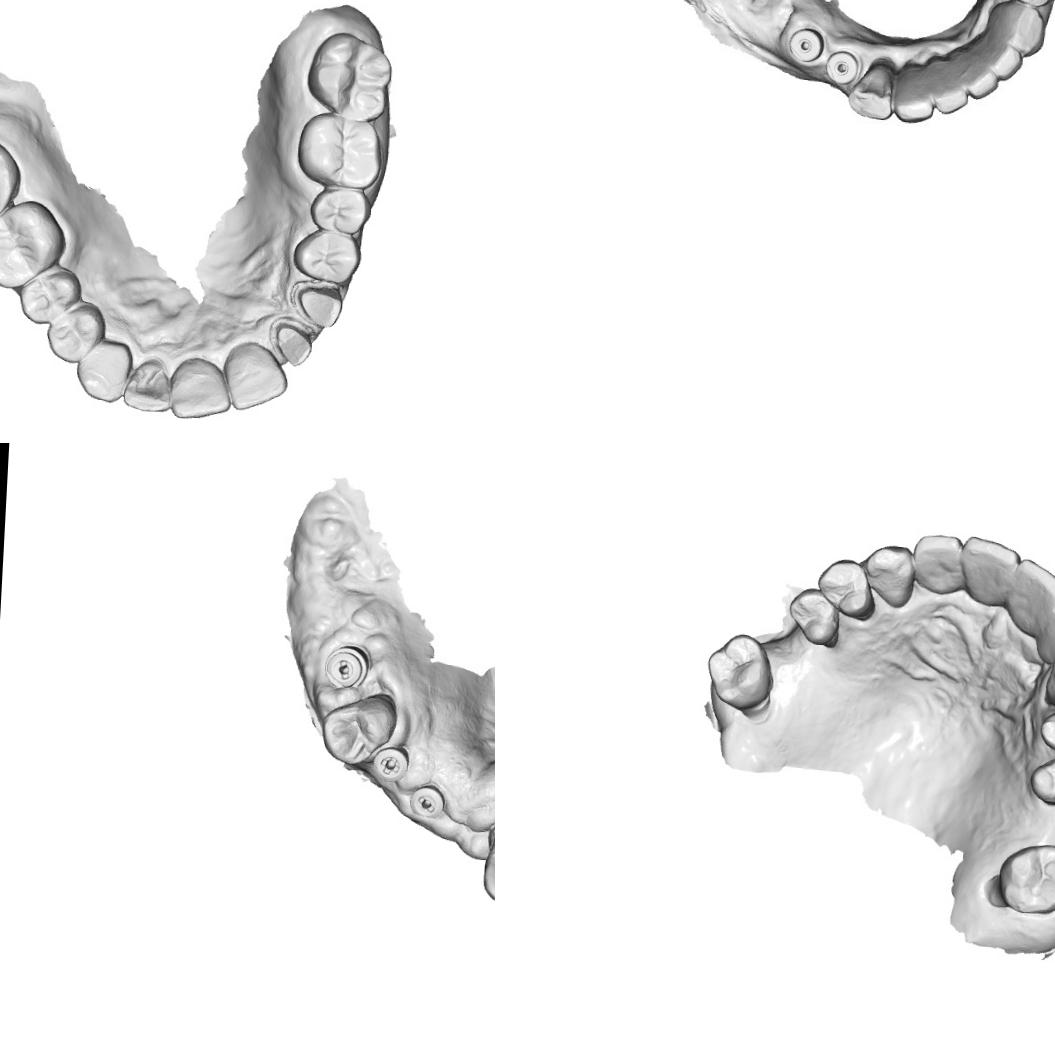canine: (73, 336, 132, 406), (861, 543, 917, 608), (846, 59, 898, 122), (988, 0, 1047, 52), (1040, 642, 1055, 713)
crown: (285, 280, 344, 334), (266, 317, 318, 369)
implant: (784, 21, 826, 69), (819, 48, 859, 86)
implant_minus: (325, 646, 367, 688), (408, 784, 445, 819)
implant_plus: (372, 744, 410, 785)
incisor: (221, 339, 290, 414), (167, 352, 235, 422), (958, 534, 1021, 608), (1005, 556, 1055, 639), (908, 532, 963, 595), (119, 353, 174, 414), (892, 61, 938, 122), (925, 56, 971, 114), (971, 32, 1025, 76), (954, 49, 999, 96), (1032, 598, 1055, 664), (480, 820, 495, 906)
molar: (304, 28, 395, 120), (292, 109, 389, 190), (0, 196, 68, 294), (703, 630, 775, 713), (994, 839, 1055, 921), (0, 134, 23, 229)
premolar: (319, 688, 398, 767), (288, 227, 363, 286), (43, 299, 109, 365), (814, 557, 878, 622), (15, 264, 82, 326), (784, 584, 842, 648), (305, 184, 372, 234), (1027, 752, 1055, 808), (1037, 700, 1055, 758)
